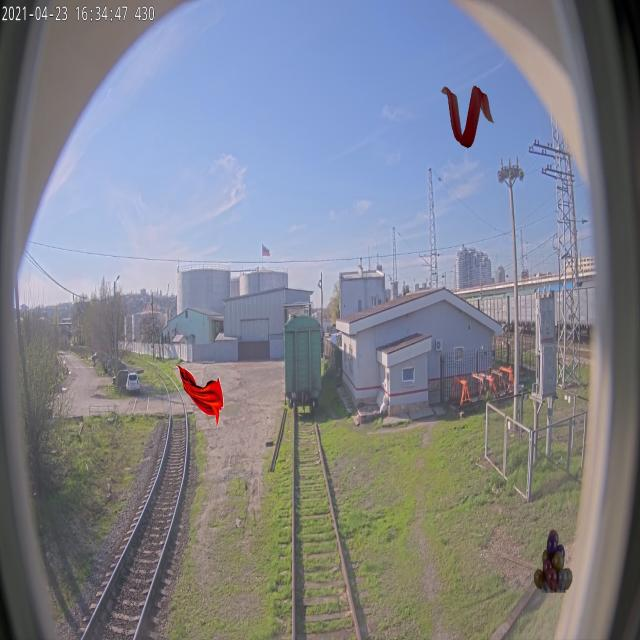balloon: (534, 528, 572, 592)
floating object: (441, 84, 495, 148), (175, 364, 224, 428)
